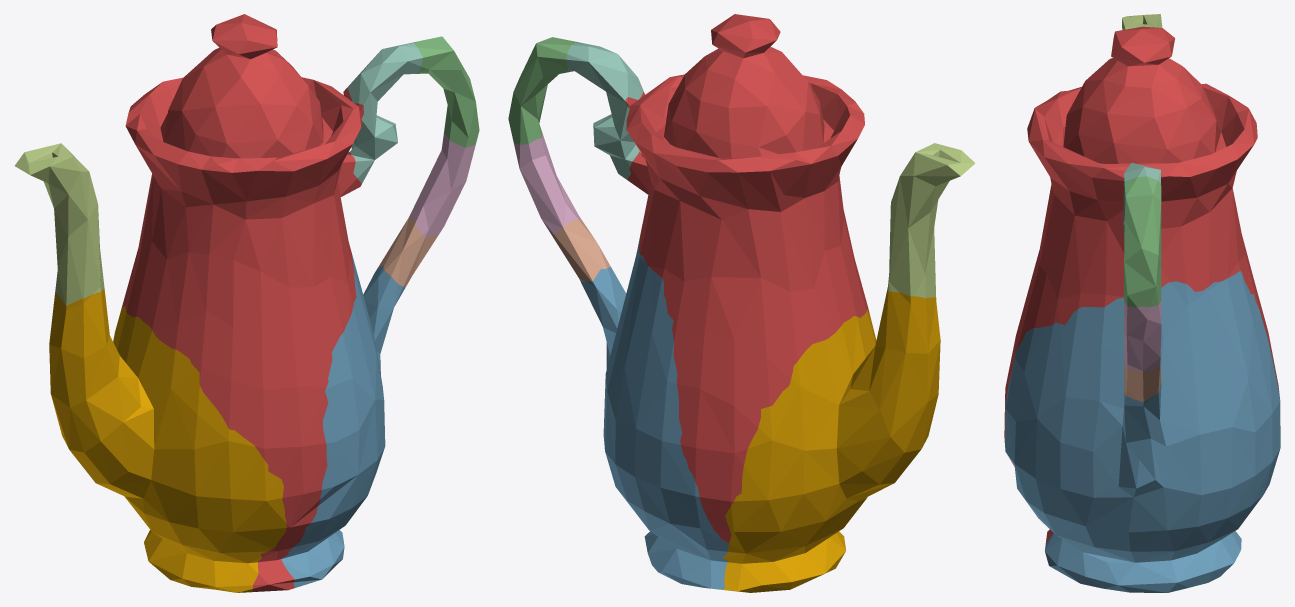
Rendered from mode_19_8pcs.glb.
The picture shows the model from 3 angles, left to right: view 1: azimuth 30°, elevation 25°; view 2: azimuth 150°, elevation 25°; view 3: azimuth 270°, elevation 25°; orthographic projection. The views are drawn at different scales.
Visible parts, largest first — view 1: piece_1.obj, piece_0.obj, piece_2.obj, piece_5.obj, piece_4.obj, piece_3.obj, piece_6.obj, piece_7.obj; view 2: piece_1.obj, piece_0.obj, piece_2.obj, piece_5.obj, piece_4.obj, piece_3.obj, piece_6.obj, piece_7.obj; view 3: piece_2.obj, piece_1.obj, piece_3.obj, piece_6.obj, piece_7.obj, piece_4.obj, piece_5.obj.
Part boxes in pixels (x1=…): piece_1.obj: x1=121, y1=14, x2=363, y2=591; piece_0.obj: x1=49, y1=288, x2=286, y2=592; piece_2.obj: x1=281, y1=254, x2=404, y2=587; piece_5.obj: x1=15, y1=143, x2=104, y2=305; piece_4.obj: x1=347, y1=43, x2=422, y2=183; piece_3.obj: x1=410, y1=36, x2=479, y2=147; piece_6.obj: x1=409, y1=133, x2=475, y2=237; piece_7.obj: x1=378, y1=216, x2=438, y2=287; piece_1.obj: x1=625, y1=14, x2=869, y2=543; piece_0.obj: x1=722, y1=290, x2=940, y2=592; piece_2.obj: x1=581, y1=236, x2=728, y2=589; piece_5.obj: x1=887, y1=143, x2=975, y2=298; piece_4.obj: x1=566, y1=43, x2=643, y2=179; piece_3.obj: x1=508, y1=37, x2=582, y2=144; piece_6.obj: x1=514, y1=134, x2=582, y2=235; piece_7.obj: x1=552, y1=219, x2=610, y2=281; piece_2.obj: x1=1005, y1=270, x2=1280, y2=592; piece_1.obj: x1=1004, y1=26, x2=1278, y2=543; piece_3.obj: x1=1124, y1=176, x2=1161, y2=307; piece_6.obj: x1=1124, y1=300, x2=1161, y2=372; piece_7.obj: x1=1124, y1=360, x2=1161, y2=401; piece_4.obj: x1=1123, y1=163, x2=1160, y2=237; piece_5.obj: x1=1122, y1=14, x2=1162, y2=29.
Size of the model in its own units: 0.8875 by 1 by 0.4782.
